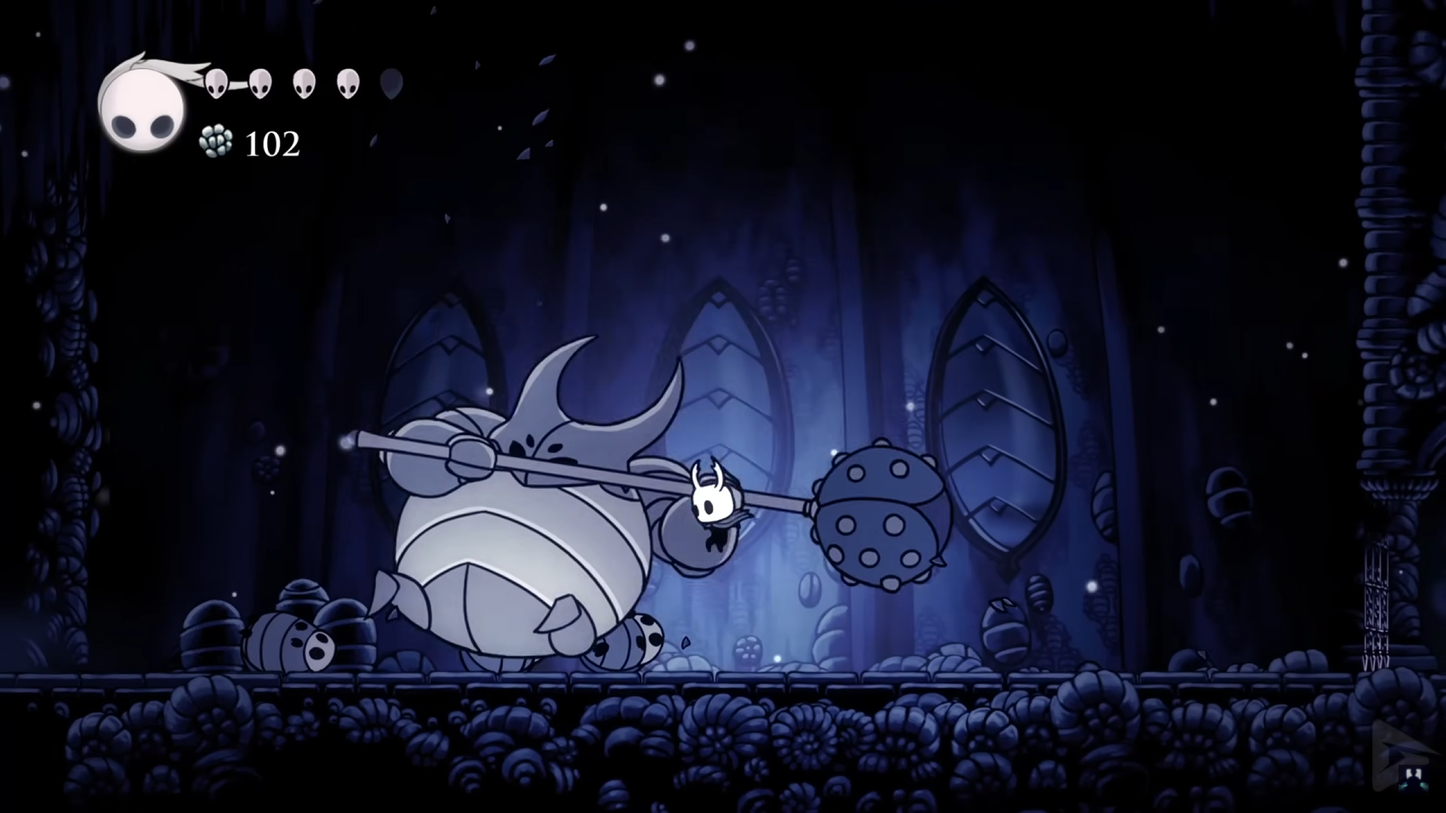HK: (690, 455, 756, 552)
